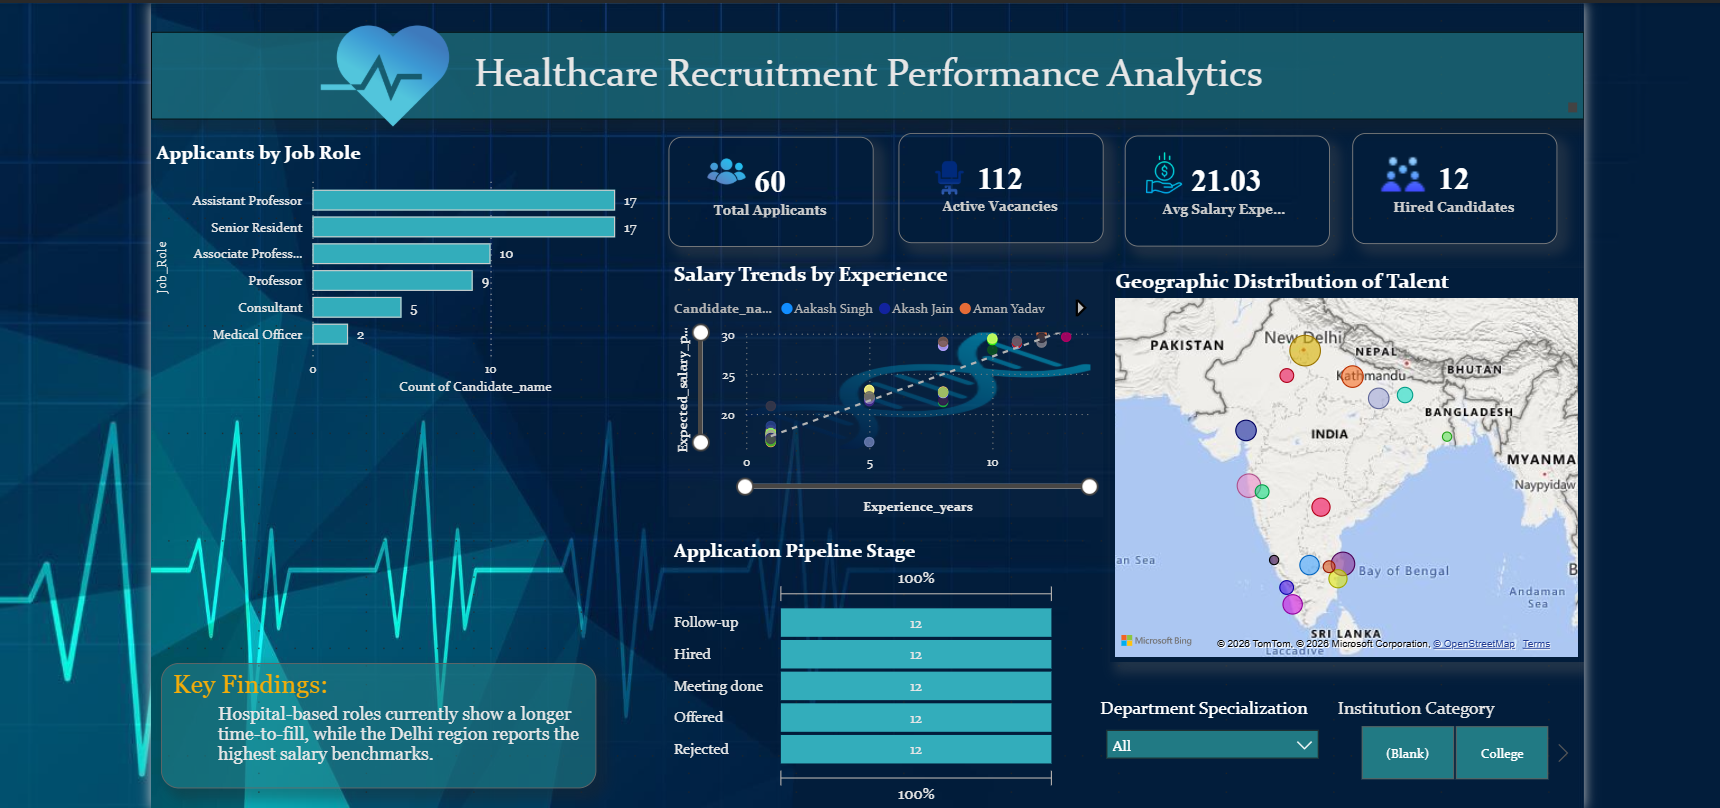

What the dashboard file says about the page in this screenshot:
{"tool":"powerbi","page":{"name":"Page 1","canvas":[1280,720],"ordinal":0},"visuals":[{"type":"cardVisual","fields":{"Data":["Avg(Applications.Expected_salary_package)"]},"box":[869.9,117.8,182.8,99.4],"z":0},{"type":"cardVisual","fields":{"Data":["Applications.Hired Candidates"]},"box":[1072.4,116.6,182.8,99.4],"z":1000},{"type":"cardVisual","fields":{"Data":["Sum(Job Openings.Vacancy_Count)"]},"box":[668,116.6,182.8,98.2],"z":2000},{"type":"cardVisual","fields":{"Data":["CountNonNull(Applications.Candidate_name)"]},"box":[462.6,119,182.8,98.2],"z":3000},{"type":"funnel","title":"Application Pipeline Stage","fields":{"Category":["Applications.Application_status"],"Y":["CountNonNull(Applications.Candidate_name)"]},"box":[462.6,477.3,352.1,242.9],"z":4000},{"type":"clusteredBarChart","title":"Applicants by Job Role","fields":{"Category":["Job Openings.Job_Role"],"Y":["CountNonNull(Applications.Candidate_name)"]},"box":[0,122.7,446.6,231.9],"z":5000},{"type":"scatterChart","title":"Salary Trends by Experience","fields":{"X":["Candidates.Experience_years"],"Y":["Applications.Expected_salary_package"],"Series":["Candidates.Candidate_name"]},"box":[462.6,230.7,387.7,228.2],"z":6000},{"type":"map","title":"Geographic Distribution of Talent","fields":{"Category":["Candidates.City"],"Size":["CountNonNull(Candidates.Candidate_name)"]},"box":[856.4,236.8,423.3,352.1],"z":7000},{"type":"slicer","title":"Institution Category","fields":{"Values":["Job Openings.Job_Type"]},"box":[1055.2,619.6,217.2,81],"z":8000},{"type":"slicer","title":"Department Specialization","fields":{"Values":["Job Openings.Specialization"]},"box":[842.9,619.6,209.8,81],"z":9000},{"type":"textbox","title":"Key Findings:","box":[8.6,589,389,111.7],"z":10000},{"type":"textbox","title":"Healthcare Recruitment Performance Analytics","box":[0,25.8,1279.8,78.5],"z":11000},{"type":"image","box":[126.4,0,165.6,130.1],"z":12000},{"type":"image","box":[496.9,122.7,34.4,55.2],"z":13000},{"type":"image","box":[695.7,131.3,35.6,49.1],"z":14000},{"type":"image","box":[885.9,131.3,36.8,40.5],"z":15000},{"type":"image","box":[1087.1,130.1,61.4,42.9],"z":16000}]}

Visuals, with their boxes on the page's 1280x720 design canvas (x1, y1, x2, y2). These are canvas units, not pixel positions in the 1720x808 screenshot, which may show the page scaled, cropped or inside an application window:
cardVisual - Avg(Applications.Expected_salary_package): [x1=870, y1=118, x2=1053, y2=217]
cardVisual - Applications.Hired Candidates: [x1=1072, y1=117, x2=1255, y2=216]
cardVisual - Sum(Job Openings.Vacancy_Count): [x1=668, y1=117, x2=851, y2=215]
cardVisual - CountNonNull(Applications.Candidate_name): [x1=463, y1=119, x2=645, y2=217]
"Application Pipeline Stage" funnel: [x1=463, y1=477, x2=815, y2=720]
"Applicants by Job Role" clusteredBarChart: [x1=0, y1=123, x2=447, y2=355]
"Salary Trends by Experience" scatterChart: [x1=463, y1=231, x2=850, y2=459]
"Geographic Distribution of Talent" map: [x1=856, y1=237, x2=1280, y2=589]
"Institution Category" slicer: [x1=1055, y1=620, x2=1272, y2=701]
"Department Specialization" slicer: [x1=843, y1=620, x2=1053, y2=701]
"Key Findings:" textbox: [x1=9, y1=589, x2=398, y2=701]
"Healthcare Recruitment Performance Analytics" textbox: [x1=0, y1=26, x2=1280, y2=104]
image: [x1=126, y1=0, x2=292, y2=130]
image: [x1=497, y1=123, x2=531, y2=178]
image: [x1=696, y1=131, x2=731, y2=180]
image: [x1=886, y1=131, x2=923, y2=172]
image: [x1=1087, y1=130, x2=1148, y2=173]
